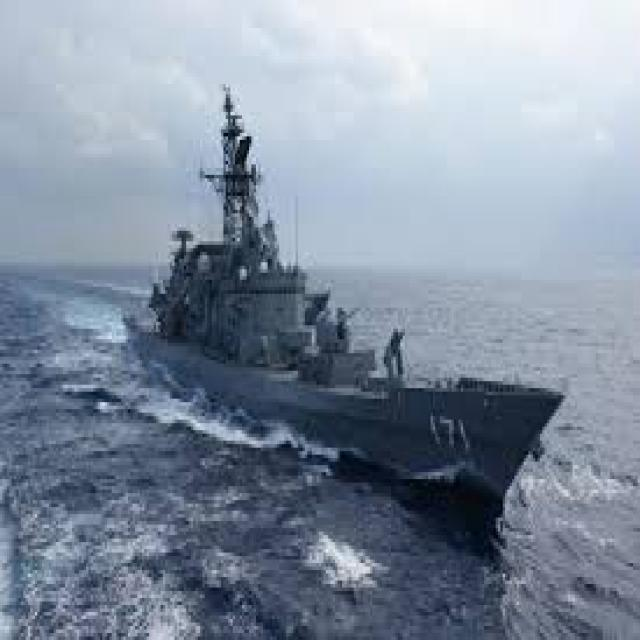navalvessels: (125, 98, 572, 524)
